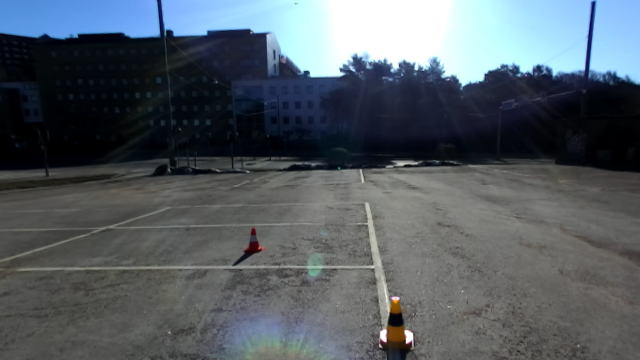orange: (241, 226, 265, 255)
yellow: (378, 293, 416, 352)
